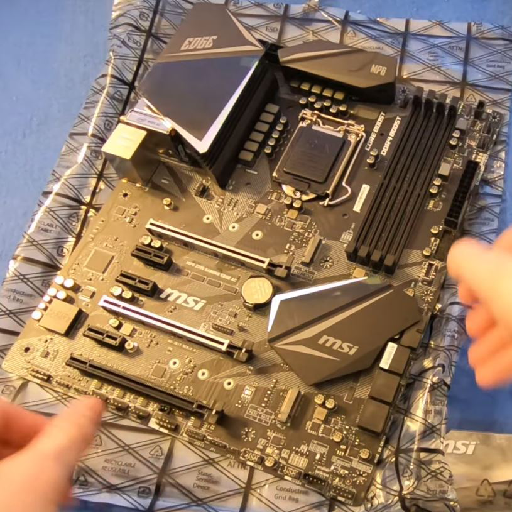CPU: (270, 106, 364, 202)
GPU: (65, 351, 225, 428), (99, 295, 255, 362), (144, 216, 293, 281)
MOTHERBOARD: (5, 2, 502, 499)
RAM: (344, 86, 461, 277)
SSD: (276, 385, 304, 424), (300, 235, 323, 266)
